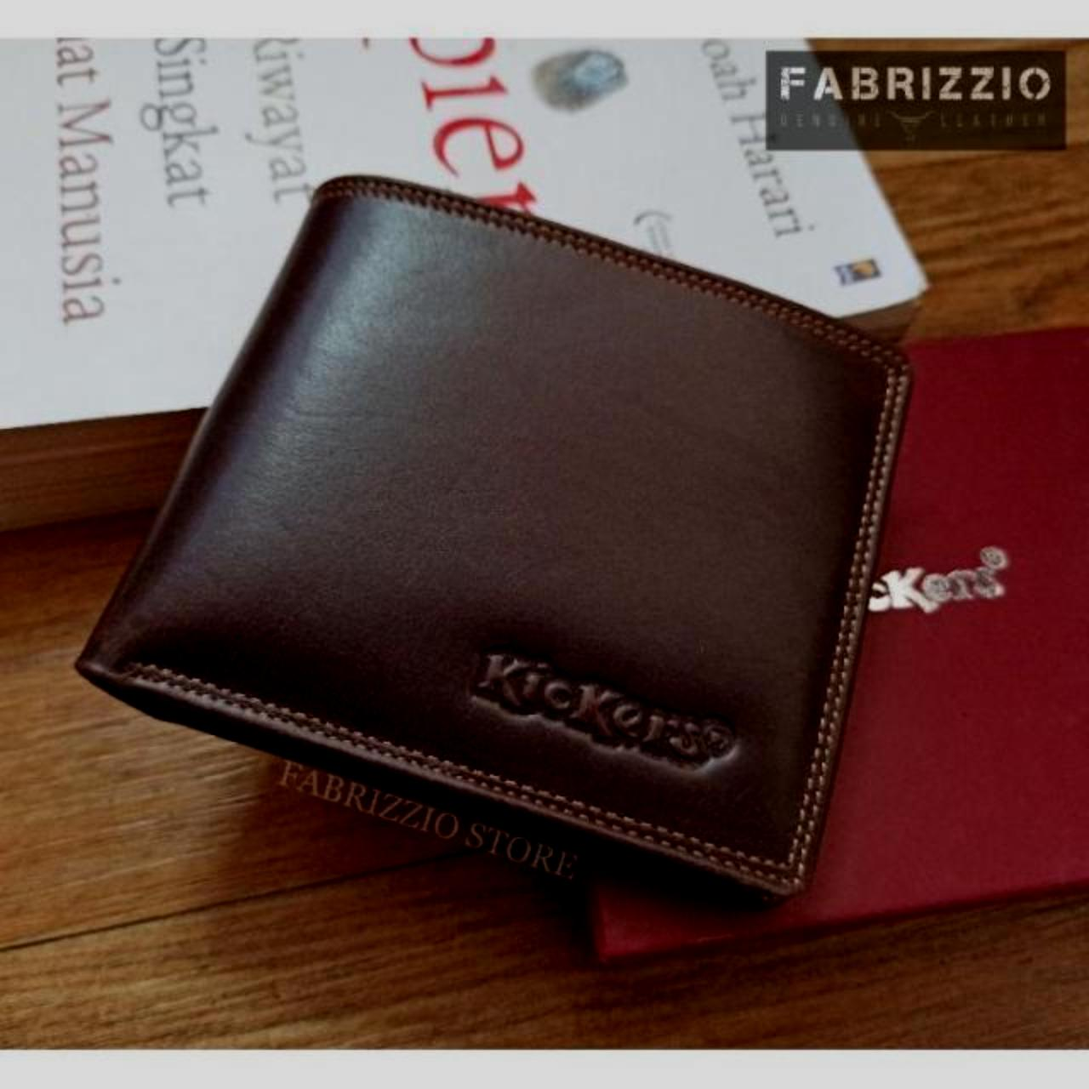wallet: (83, 161, 946, 957)
